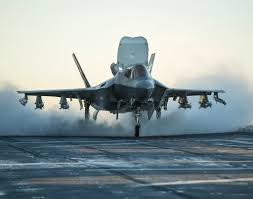fighter: (16, 31, 233, 136)
